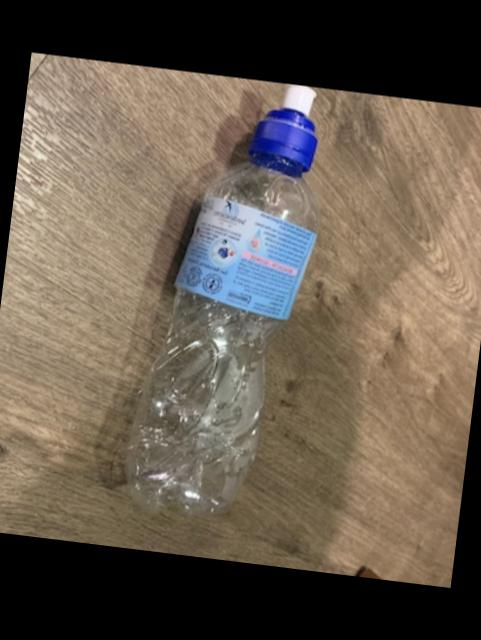plastic: (127, 86, 318, 513)
